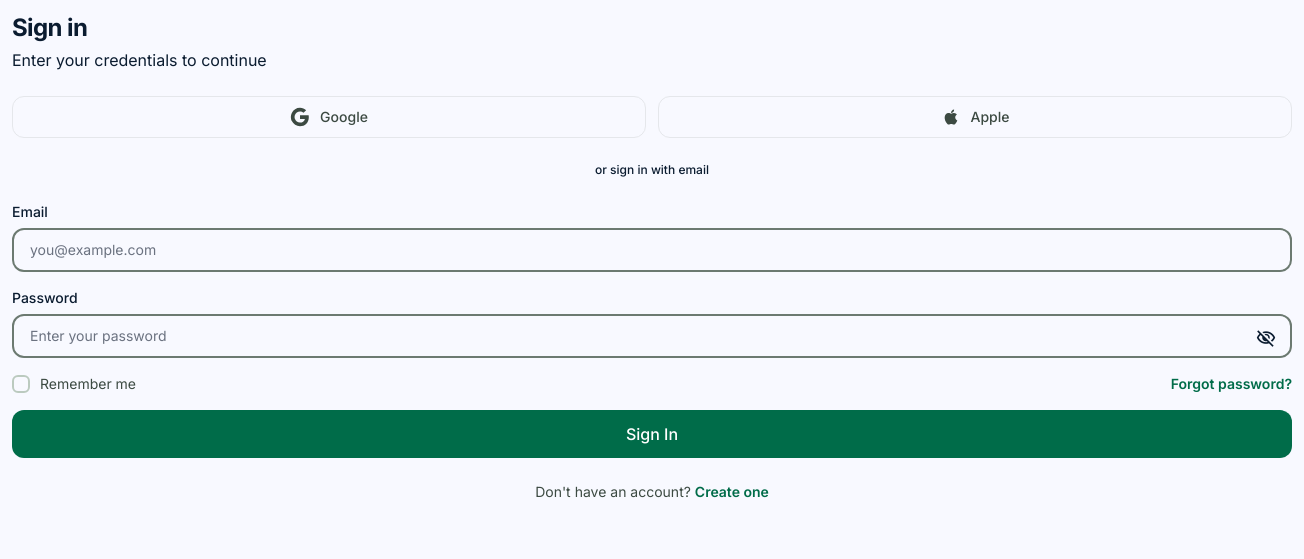
Test case: LoginPage › shows validation errors when submitting empty form
Click the button "Sign In": click(652, 434) [12, 410, 1292, 458]
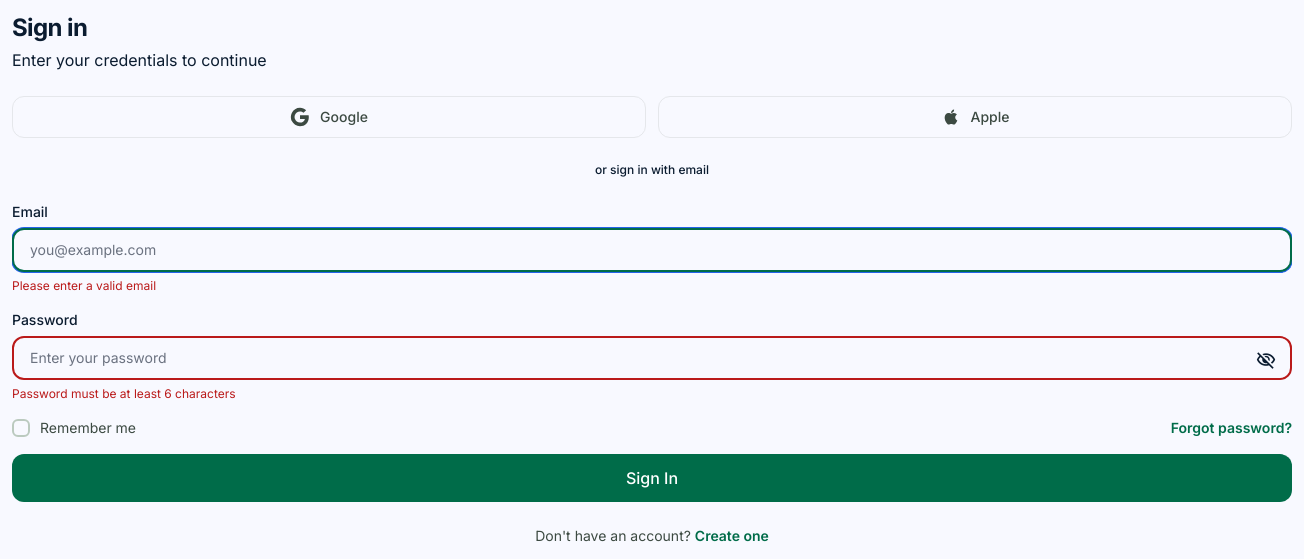
Check: the text "Please enter a valid email" is shown, box [12, 278, 156, 293]
Check: the text "Password must be at least 6 characters" is shown, box [12, 386, 236, 401]
